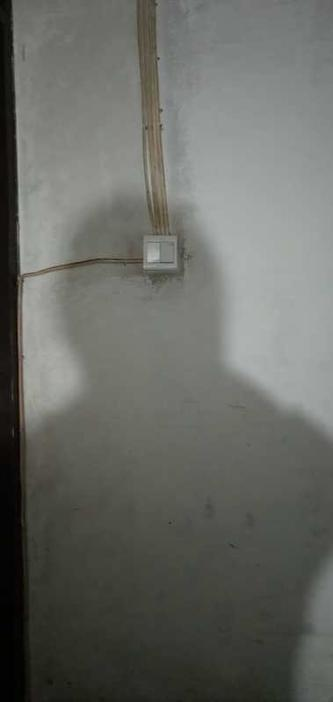switch: (165, 241, 180, 274), (145, 242, 158, 264)
